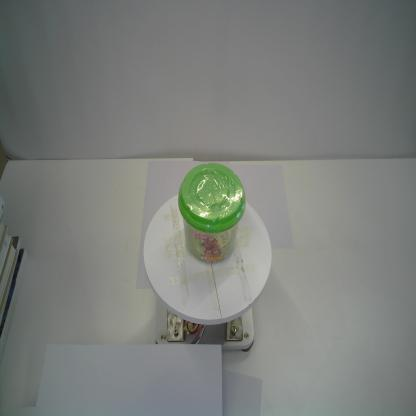Instant Drink: (177, 161, 247, 266)
